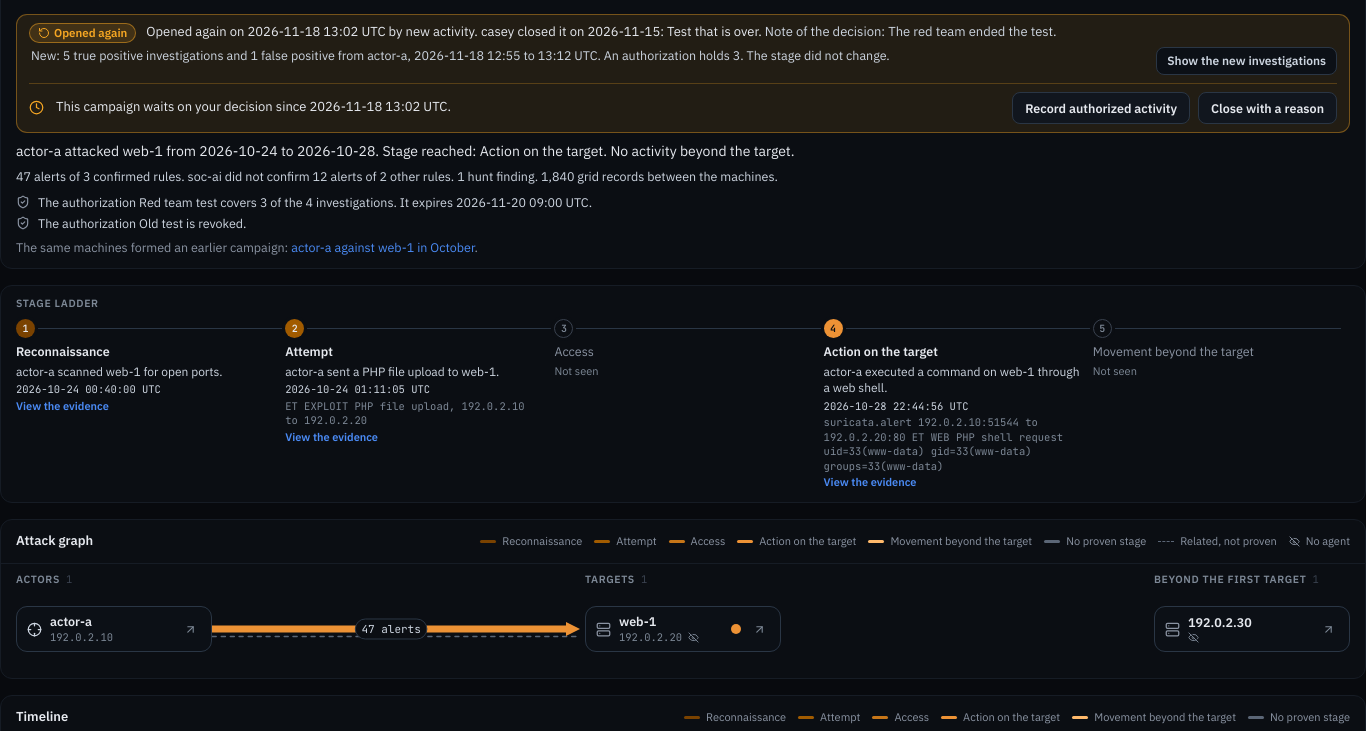
Test case: the campaign page of a campaign that opened again › opens exactly the new investigations, each with the chip New
Click the button with test id "campaign-show-new".
click(1247, 61)  # box [1156,47,1337,75]
(page scrolled)
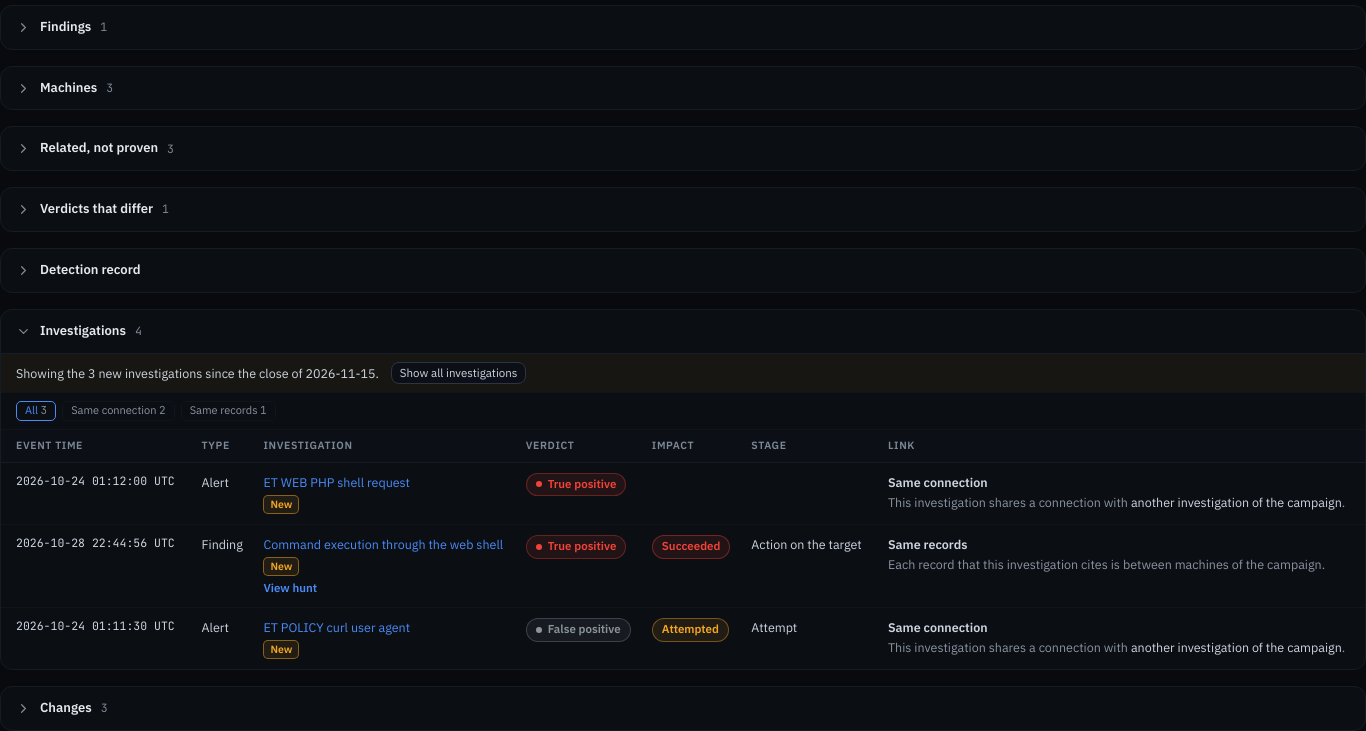
Check: the element with test id "members-new-only" shows "Showing the 3 new investigations since the close of 2026-11-15.", box [16,365,379,381]
Check: the text with test id "member-new" reads "New", box [270,497,292,511]
"Show all investigations" gives back the table of the campaign.
Click the button "Show all investigations".
click(459, 373)  # box [391,362,526,384]
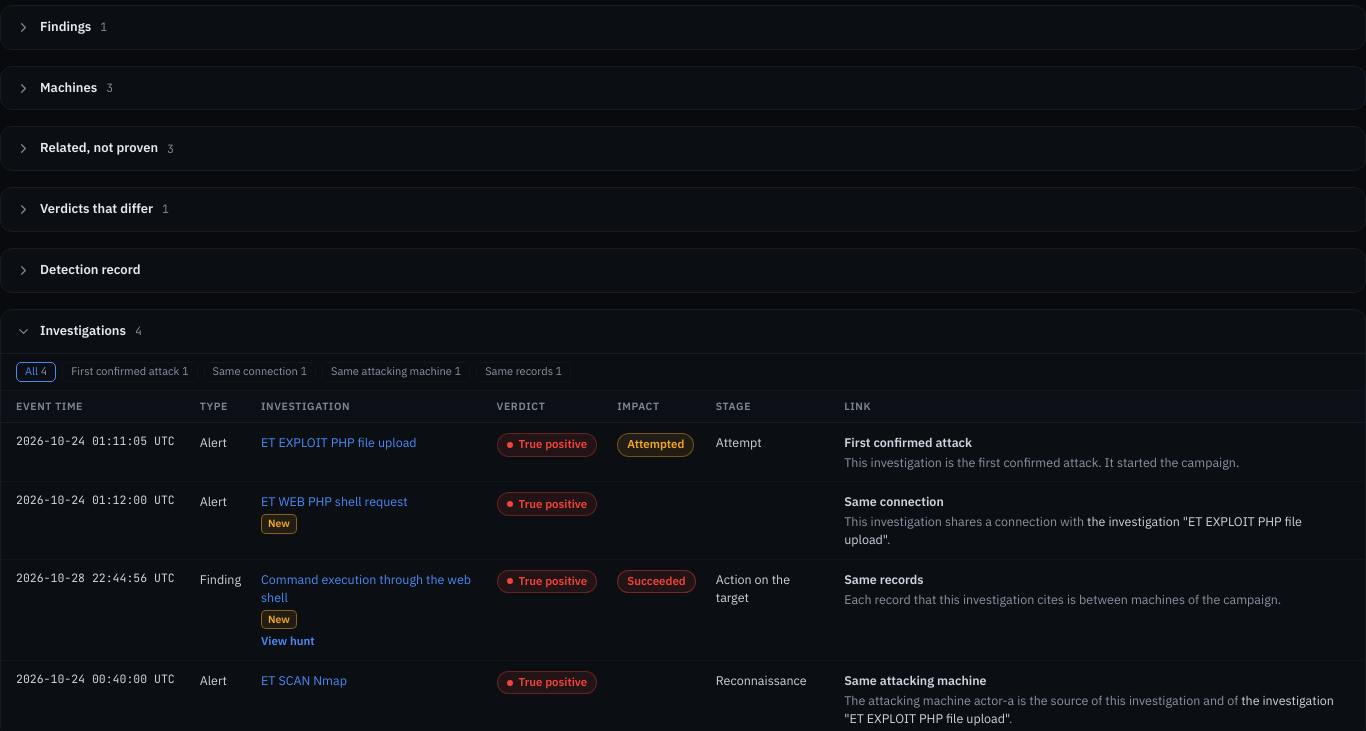
Check: the text with test id "member-new" is shown, box [261,610,297,629]
Check: the element with test id "members-new-only" is gone
